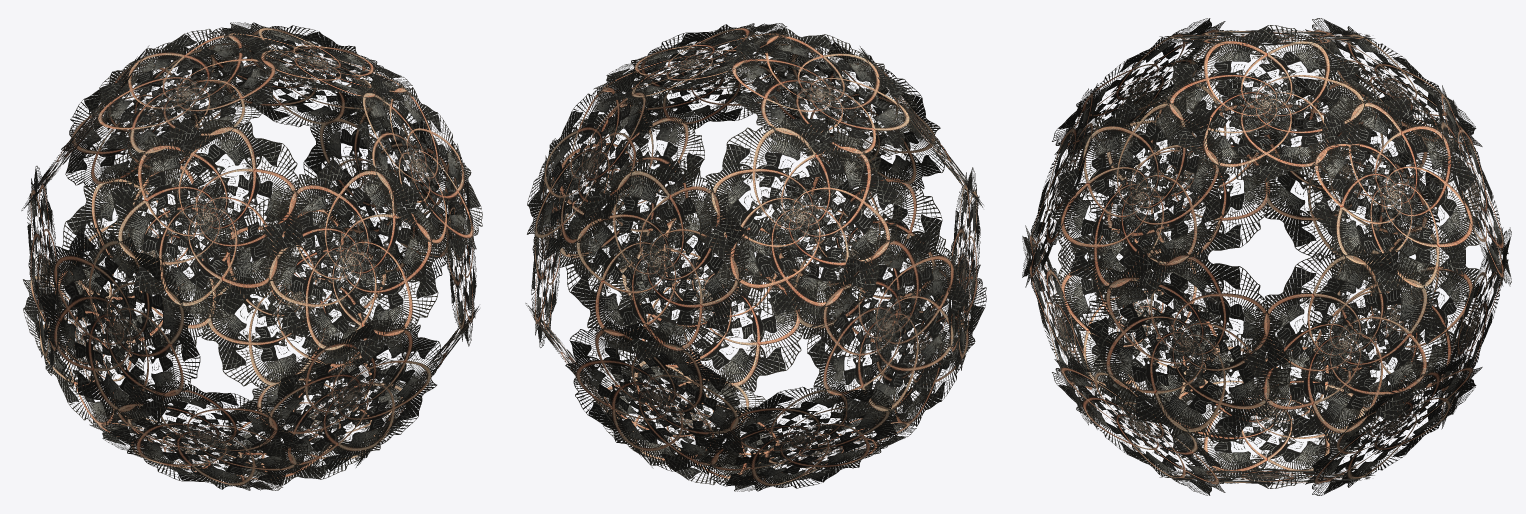
Rendered from IcositruncatedDodecadodecahedron42.gltf.
The picture shows the model from 3 angles, left to right: view 1: azimuth 30°, elevation 25°; view 2: azimuth 150°, elevation 25°; view 3: azimuth 270°, elevation 25°; orthographic projection. The views are drawn at different scales.
Parts seen in each view (by area): view 1: IcositruncatedDodecadodecahedron; view 2: IcositruncatedDodecadodecahedron; view 3: IcositruncatedDodecadodecahedron.
Boxes of the visible parts, left/top/right/bottom form: IcositruncatedDodecadodecahedron: left=21, top=22, right=482, bottom=490; IcositruncatedDodecadodecahedron: left=525, top=23, right=986, bottom=491; IcositruncatedDodecadodecahedron: left=1022, top=18, right=1511, bottom=495.
Bounding box in the file's own units: 3.85 × 3.85 × 3.85.
1 material, 1 textured.
